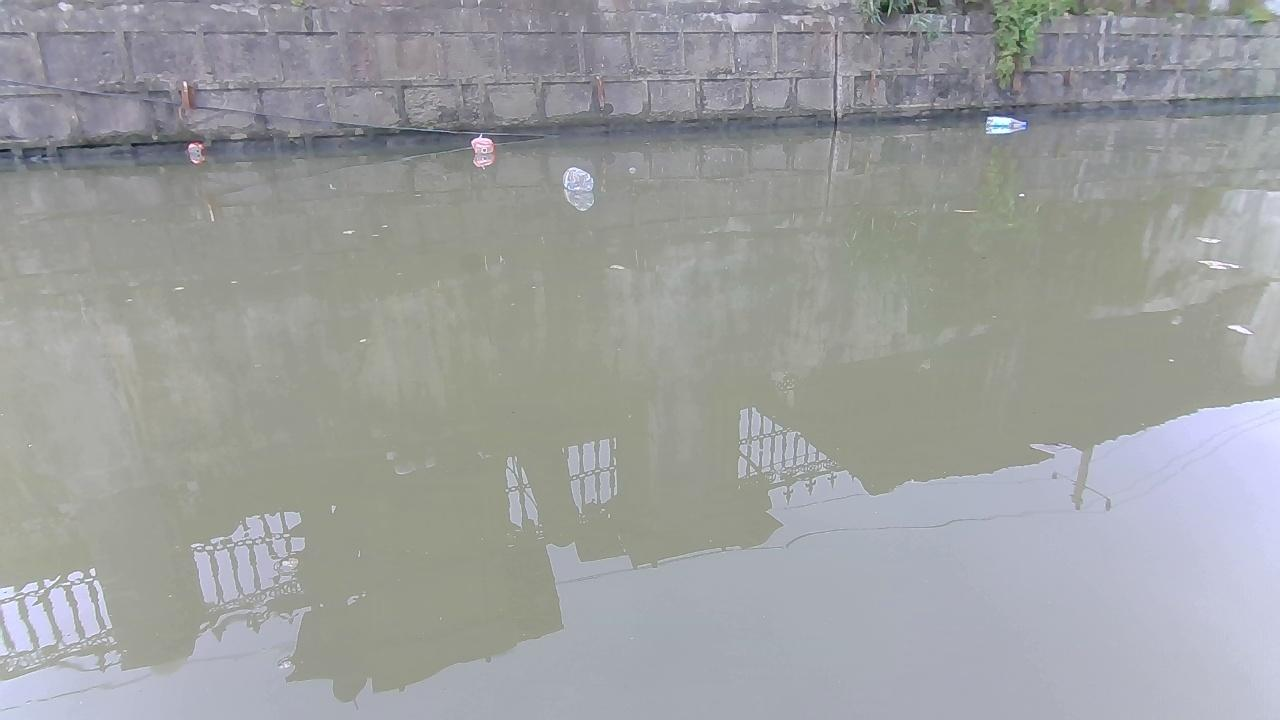bottle: (557, 168, 594, 197), (469, 133, 498, 162), (984, 112, 1029, 127), (184, 140, 209, 159)
